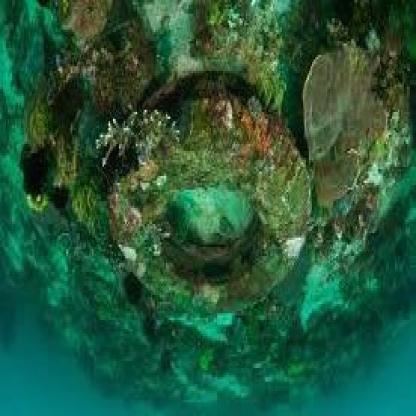tire: (99, 98, 309, 309)
